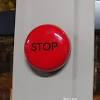bell: (23, 23, 74, 76)
